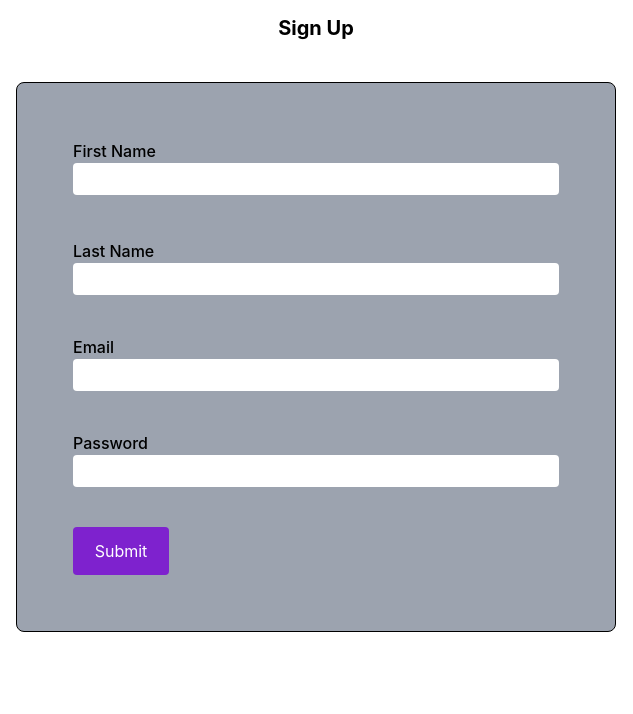
All required fields missing on submit › should inform the user of all fields that are required
Click the button with test id "submit-button": point(121, 551) [73,527,169,575]
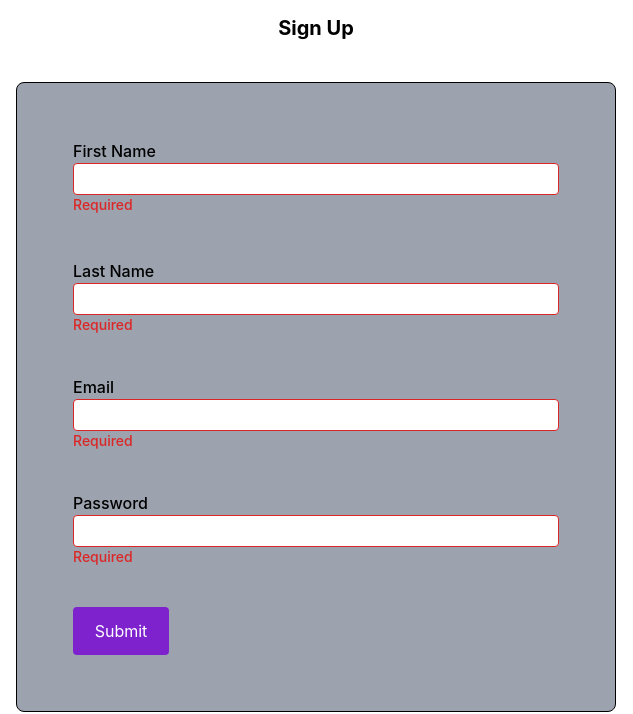
Now the text with test id "-error-message" reads "Required", box [73,196,133,213]
